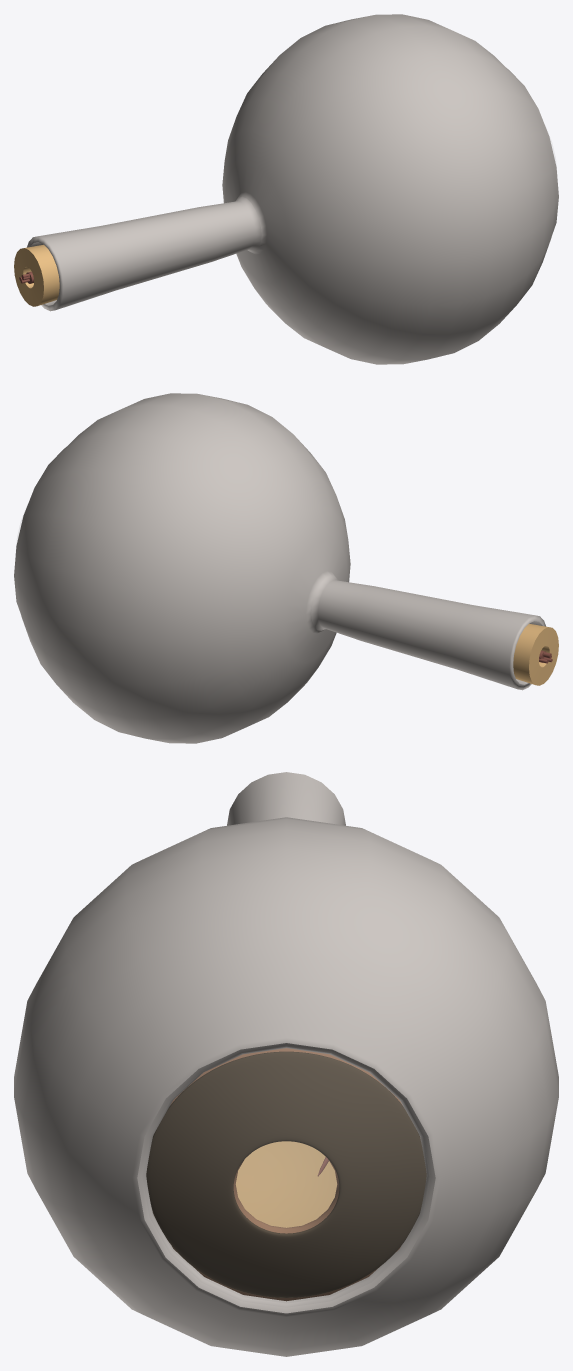
Rendered from eyeballfull.fbx.
3 renders of one model, top to bottom at view 1: azimuth 30°, elevation 25°; view 2: azimuth 150°, elevation 25°; view 3: azimuth 270°, elevation 25°, orthographic. The views are drawn at different scales.
Visible parts, largest first — view 1: sclera, retina; view 2: sclera, retina; view 3: sclera, sclera_clear, iris, retina, choroid.
Part boxes in pixels (x1=…): sclera: x1=27, y1=14, x2=558, y2=364; retina: x1=14, y1=244, x2=59, y2=306; sclera: x1=14, y1=393, x2=545, y2=743; retina: x1=513, y1=623, x2=558, y2=685; sclera: x1=14, y1=772, x2=558, y2=1356; sclera_clear: x1=146, y1=1048, x2=426, y2=1302; iris: x1=146, y1=1051, x2=426, y2=1297; retina: x1=235, y1=1141, x2=337, y2=1227; choroid: x1=170, y1=1048, x2=402, y2=1301.
Bounding box in the file's own units: 69.84 × 41.08 × 41.08.
